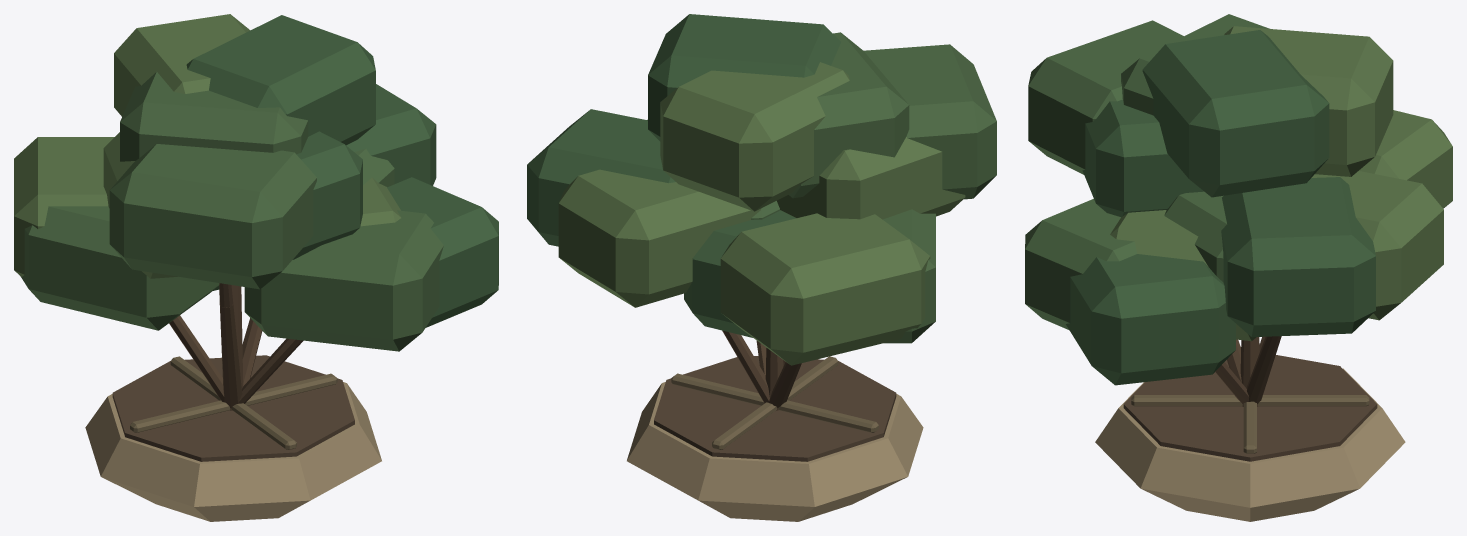
File: blueberry_packed_summer_picked.glb
3 views of the same model, side by side, from view 1: azimuth 30°, elevation 25°; view 2: azimuth 150°, elevation 25°; view 3: azimuth 270°, elevation 25° (orthographic).
Visible parts, largest first — view 1: blueberry_packed_summer_picked; view 2: blueberry_packed_summer_picked; view 3: blueberry_packed_summer_picked.
Part boxes in pixels (<box>): blueberry_packed_summer_picked: <box>14,14,498,521</box>; blueberry_packed_summer_picked: <box>527,14,996,521</box>; blueberry_packed_summer_picked: <box>1025,14,1452,521</box>.
Bounding box in the file's own units: 1.75 × 1.86 × 1.65.
